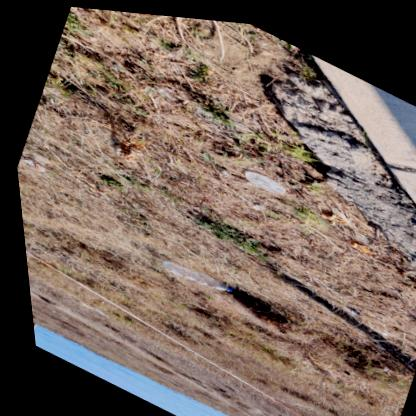Plastic: (156, 259, 226, 287), (241, 166, 282, 189), (376, 359, 381, 364)
Waste: (76, 303, 100, 315), (339, 301, 355, 310), (222, 283, 226, 287)
